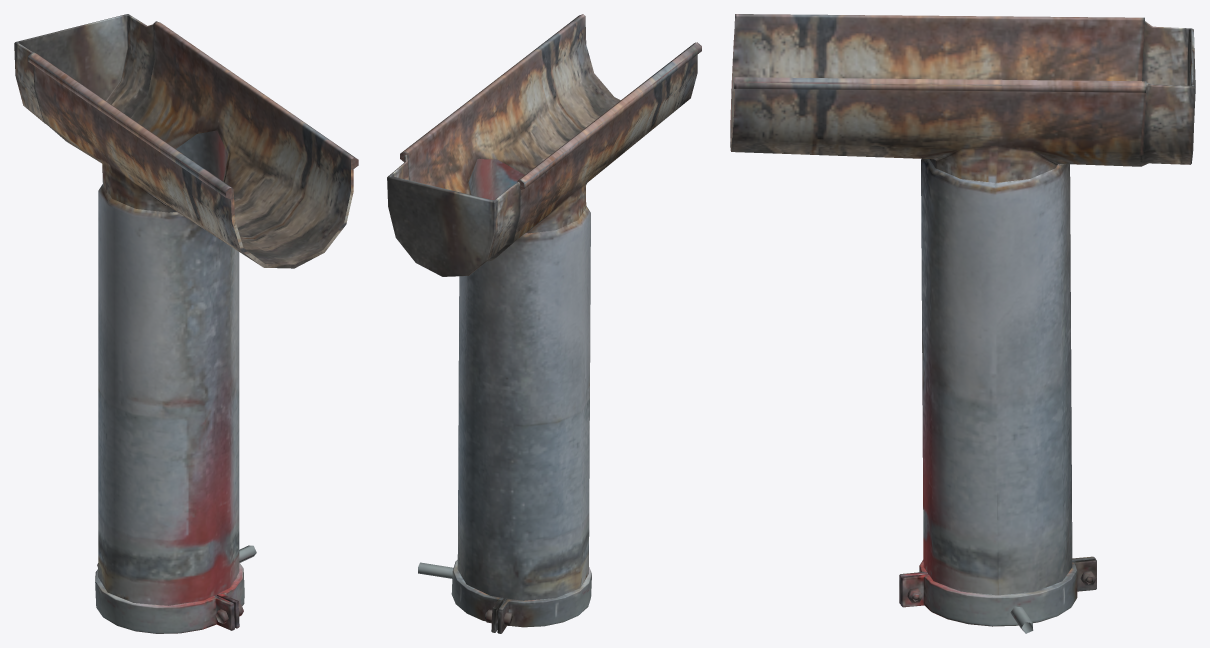
File: sm_Pipe_01_04.fbx
3 renders of one model, left to right at view 1: azimuth 30°, elevation 25°; view 2: azimuth 150°, elevation 25°; view 3: azimuth 270°, elevation 25°, orthographic. The views are drawn at different scales.
Visible parts, largest first — view 1: sm_Pipe_01_04_LOD0; view 2: sm_Pipe_01_04_LOD0; view 3: sm_Pipe_01_04_LOD0.
Part boxes in pixels (x1=…): sm_Pipe_01_04_LOD0: x1=14, y1=14, x2=358, y2=633; sm_Pipe_01_04_LOD0: x1=387, y1=14, x2=701, y2=633; sm_Pipe_01_04_LOD0: x1=730, y1=14, x2=1195, y2=633.
Size of the model in its own units: 38.84 by 17.28 by 50.88.
